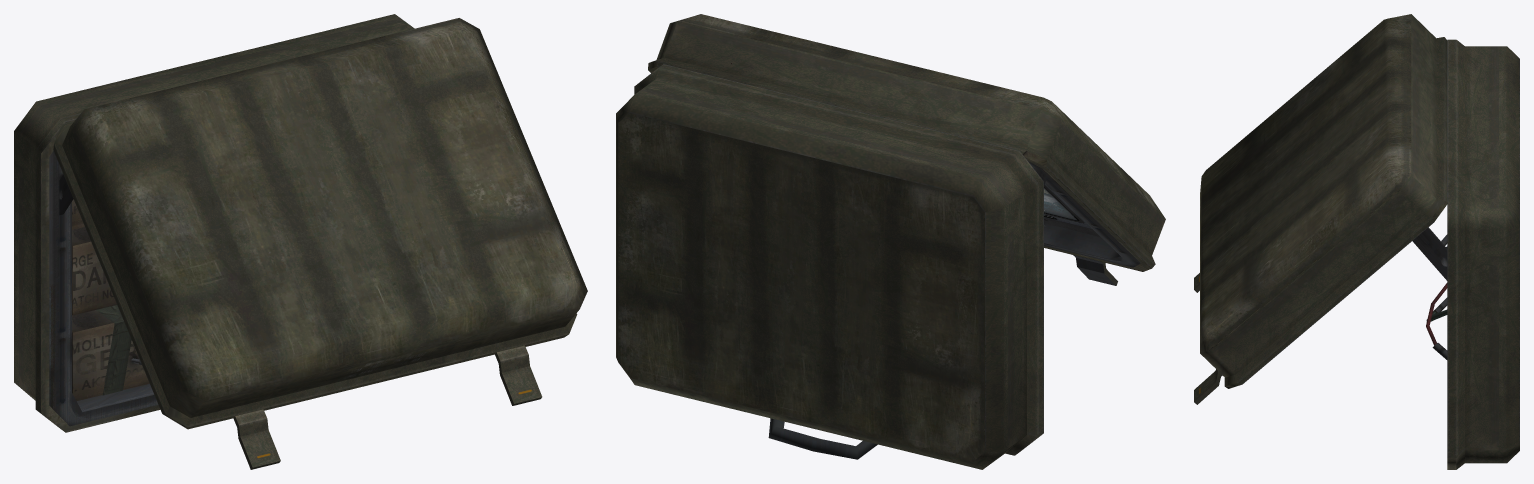
The model's file is prop_suitcase_bomb_LOD0.obj.
3 renders of one model, left to right at view 1: azimuth 30°, elevation 25°; view 2: azimuth 150°, elevation 25°; view 3: azimuth 270°, elevation 25°, orthographic. The views are drawn at different scales.
Parts seen in each view (by area): view 1: mtl_t6_wpn_briefcase_bomb_detail, mtl_t6_wpn_briefcase_bomb; view 2: mtl_t6_wpn_briefcase_bomb_detail, mtl_t6_wpn_briefcase_bomb, mtl_t6_wpn_tablet; view 3: mtl_t6_wpn_briefcase_bomb_detail, mtl_t6_wpn_briefcase_bomb.
Boxes of the visible parts, x1,y1,x2,y2 form: mtl_t6_wpn_briefcase_bomb_detail: (14, 14, 587, 432); mtl_t6_wpn_briefcase_bomb: (49, 151, 542, 469); mtl_t6_wpn_briefcase_bomb_detail: (616, 14, 1165, 469); mtl_t6_wpn_briefcase_bomb: (731, 63, 1140, 459); mtl_t6_wpn_tablet: (1044, 184, 1099, 236); mtl_t6_wpn_briefcase_bomb_detail: (1200, 14, 1519, 469); mtl_t6_wpn_briefcase_bomb: (1194, 164, 1447, 404).
Bounding box in the file's own units: 54.6 × 45.06 × 42.07.
